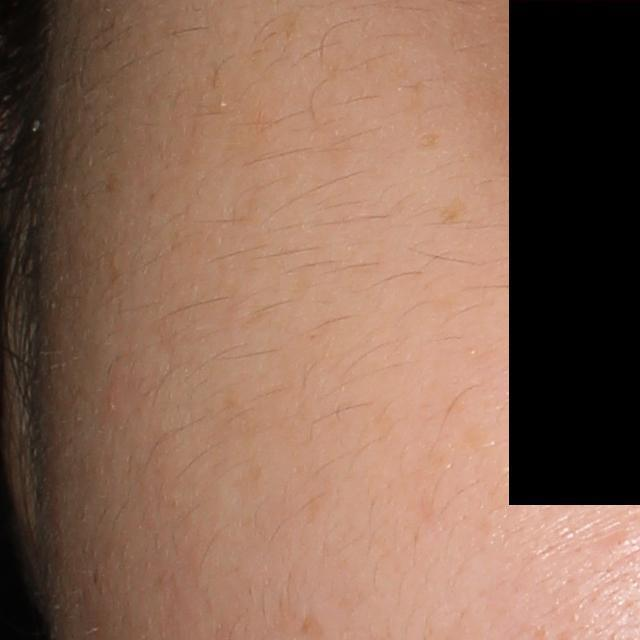melasma: (437, 194, 473, 226)
